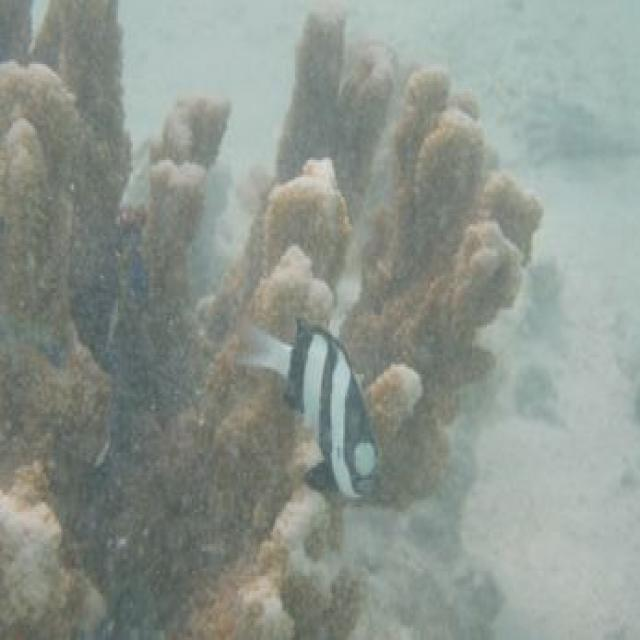Three_striped DasmselFish: (230, 310, 387, 504)
